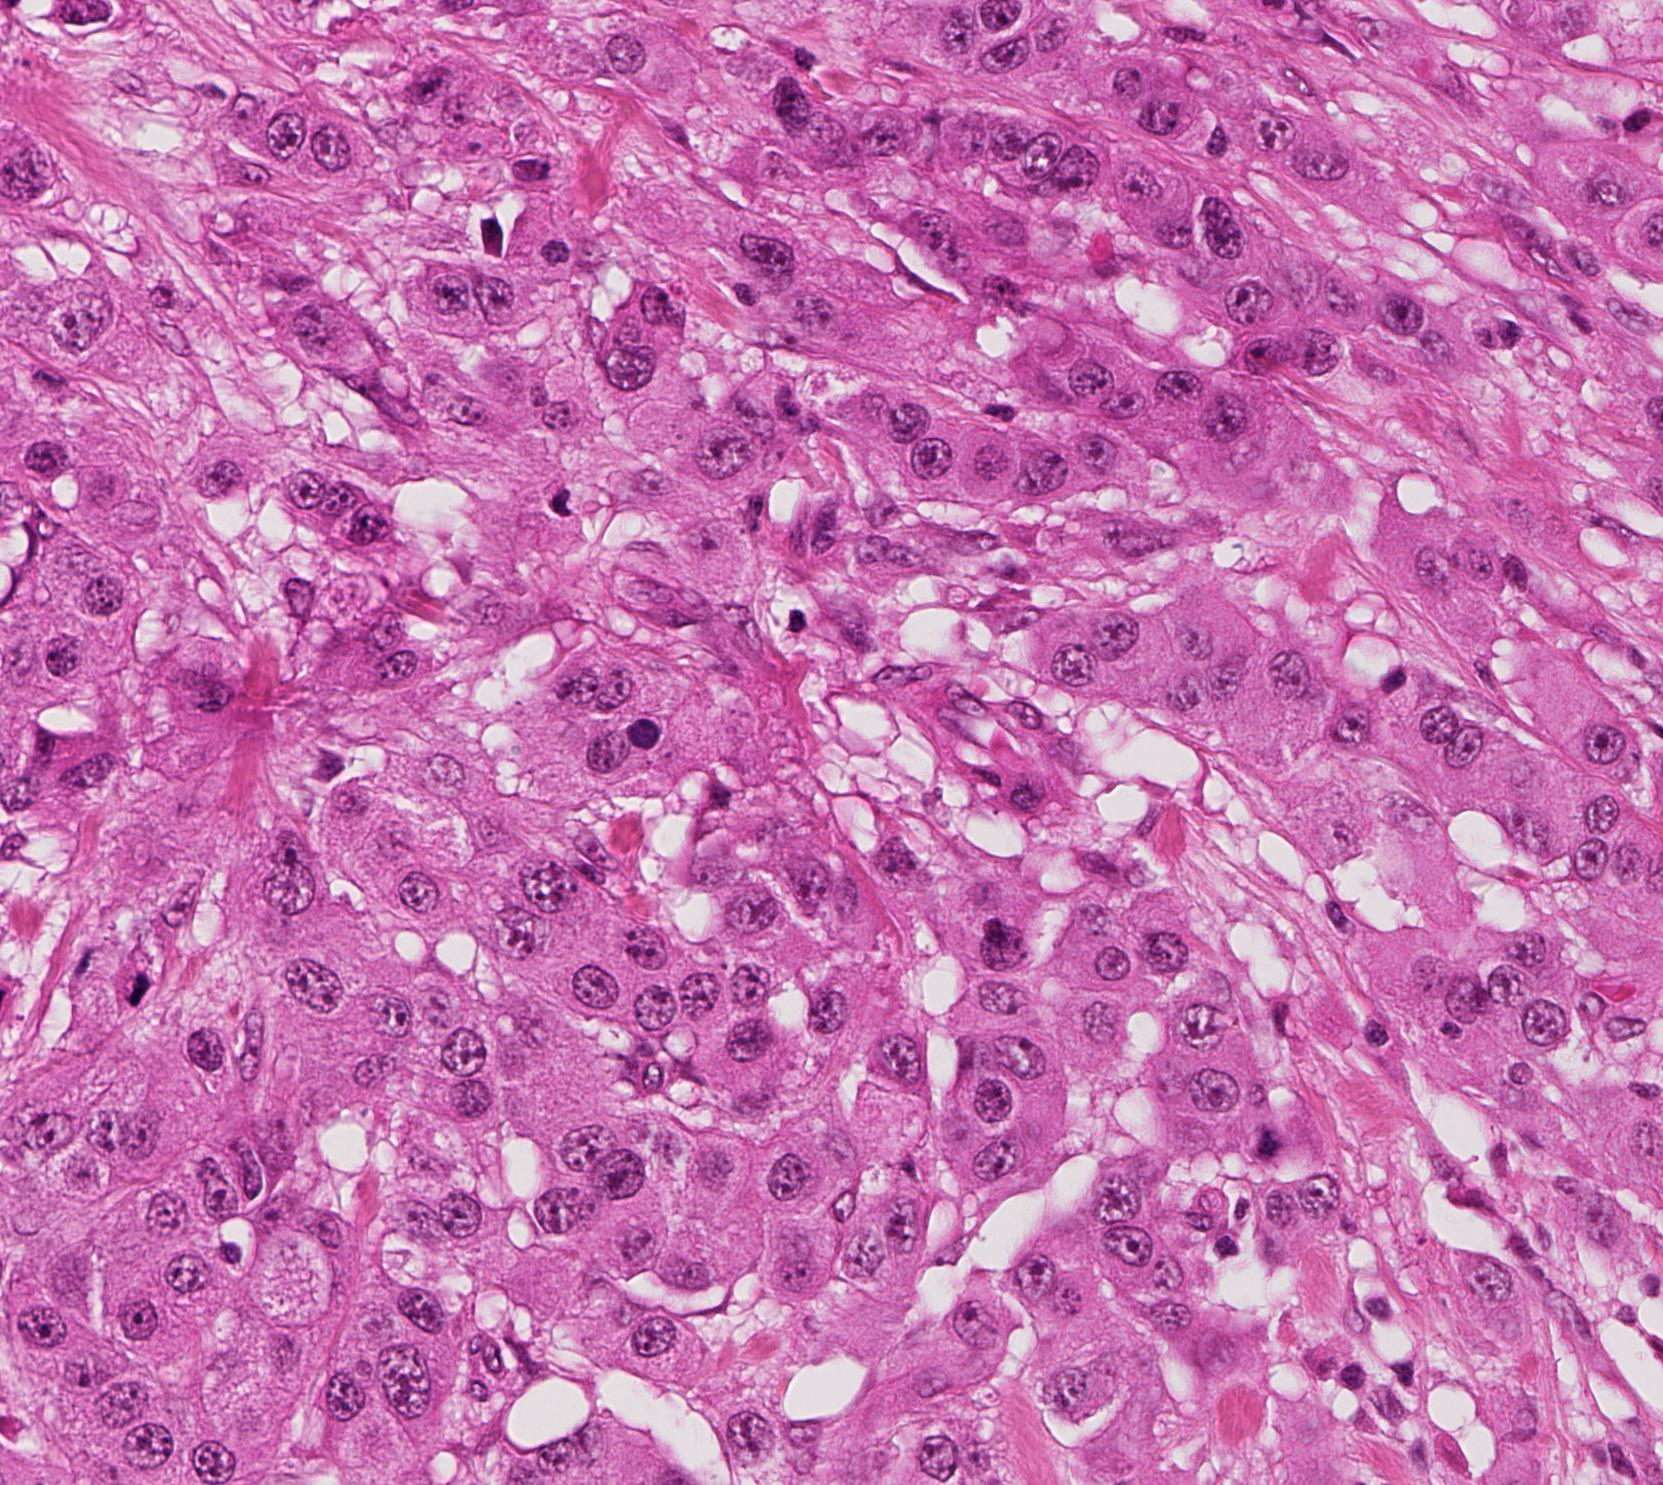mitosis: (1240, 1117, 1300, 1175)
